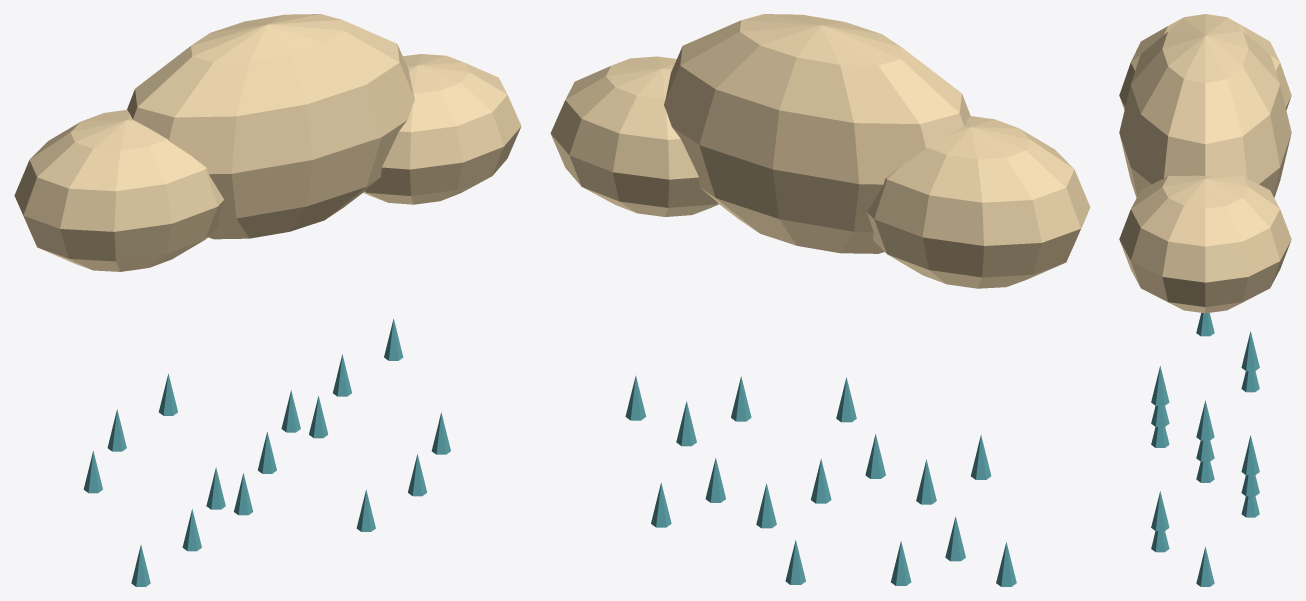
File: cloud_rain.glb
3 renders of one model, left to right at view 1: azimuth 30°, elevation 25°; view 2: azimuth 150°, elevation 25°; view 3: azimuth 270°, elevation 25°, orthographic. The views are drawn at different scales.
Visible parts, largest first — view 1: cloud_lobe1, cloud_lobe0, cloud_lobe2; view 2: cloud_lobe1, cloud_lobe0, cloud_lobe2; view 3: cloud_lobe1, cloud_lobe2, cloud_lobe0, raindrop.014, raindrop.009, raindrop.011, raindrop.002, raindrop.008, raindrop.004, raindrop.005, raindrop.013, raindrop.010 (+6 smaller).
Part boxes in pixels (x1,y1,x2,y2): cloud_lobe1: (127,14,414,239); cloud_lobe0: (14,109,224,271); cloud_lobe2: (363,54,521,204); cloud_lobe1: (664,14,970,253); cloud_lobe0: (867,116,1090,288); cloud_lobe2: (550,56,718,216); cloud_lobe1: (1119,14,1291,197); cloud_lobe2: (1119,175,1291,313); cloud_lobe0: (1119,14,1291,110); raindrop.014: (1241,435,1259,475); raindrop.009: (1196,546,1214,586); raindrop.011: (1241,331,1259,371); raindrop.002: (1151,366,1169,405); raindrop.008: (1196,400,1214,440); raindrop.004: (1151,491,1169,530); raindrop.005: (1196,313,1214,336); raindrop.013: (1241,475,1259,496); raindrop.010: (1241,371,1259,392).
Size of the model in its own units: 2.6 by 2.57 by 0.84.
